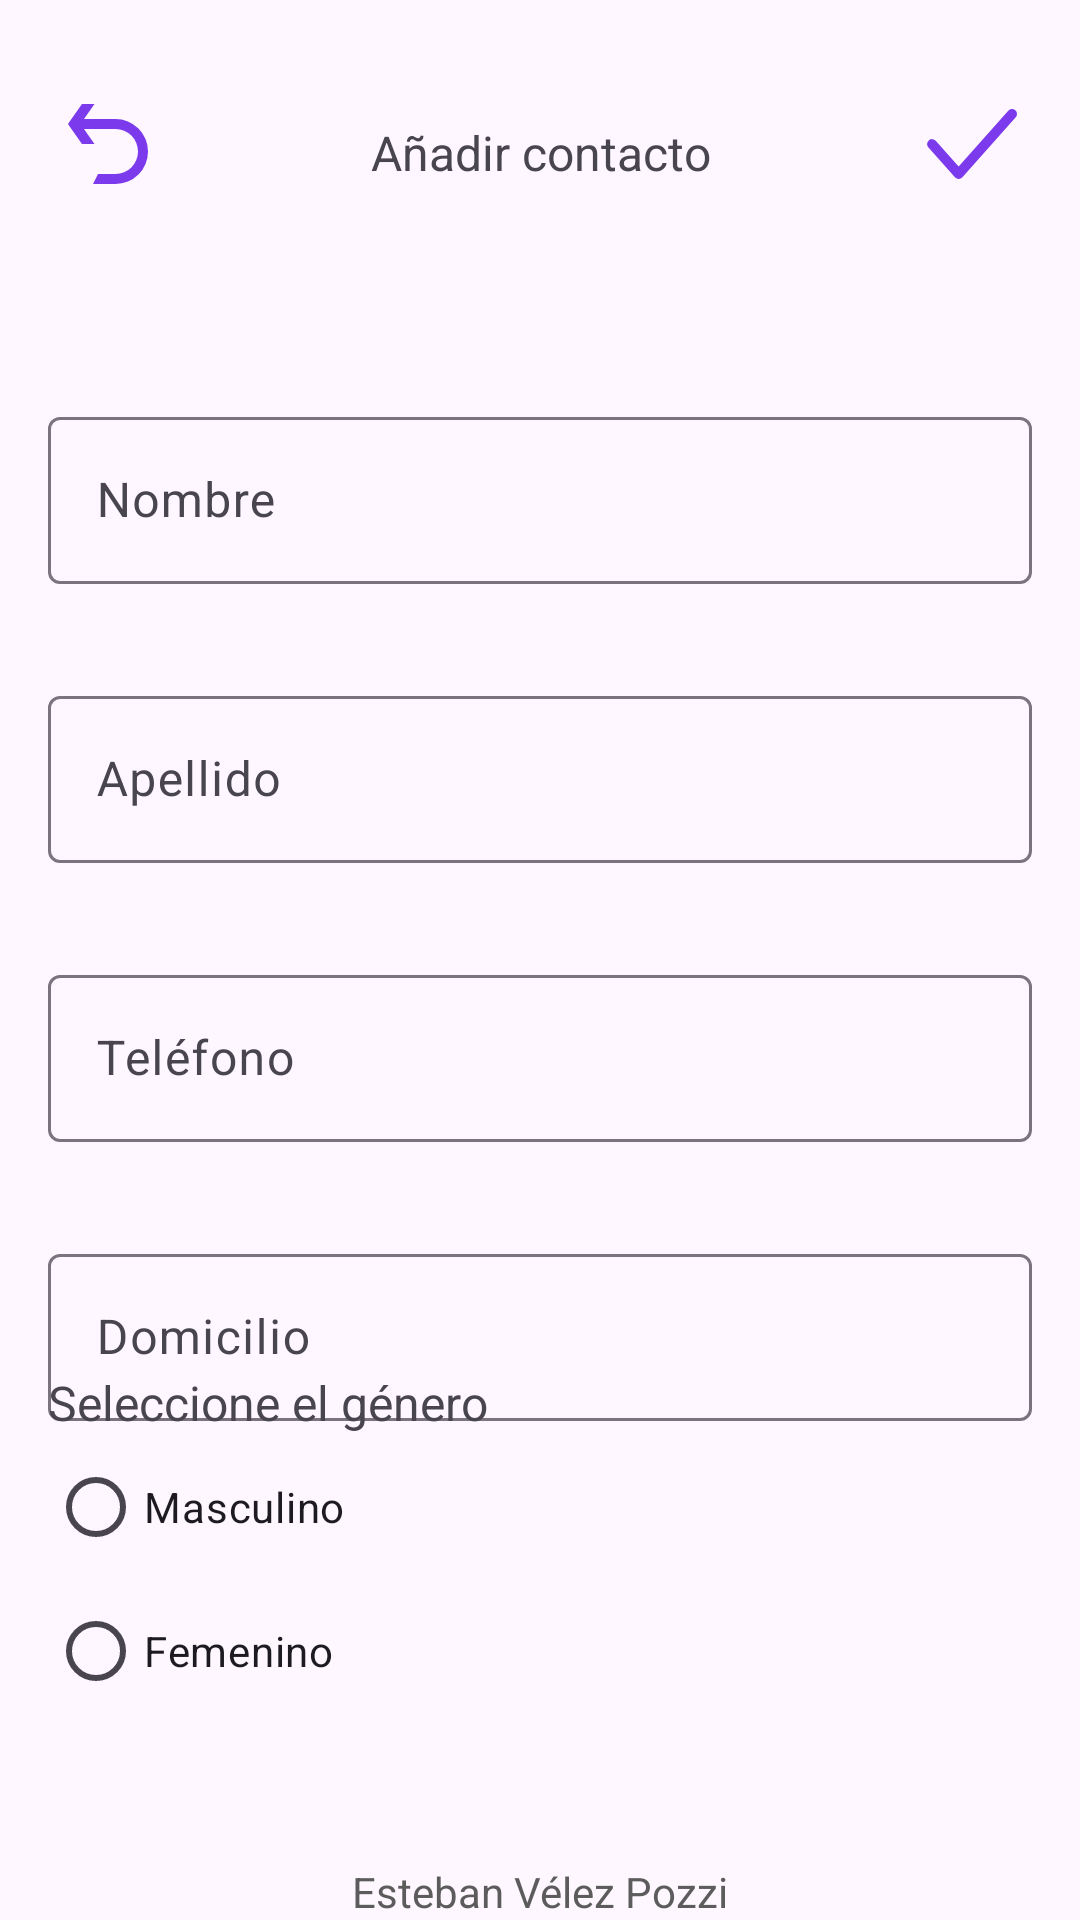

Where to tap for icons on this 1080px x 1920px app screen, as [x,y]:
back: [108,144]
check: [972,144]
